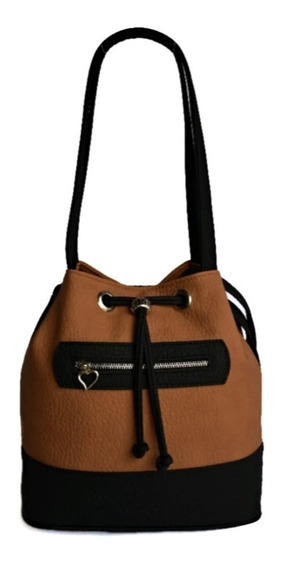cartera: (17, 25, 266, 535)
